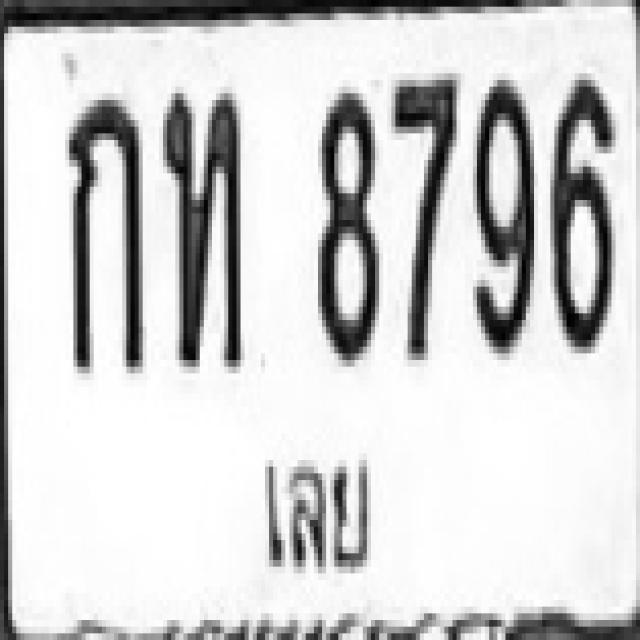10GorGai: (65, 93, 143, 367)
32ThorThaHan: (159, 87, 240, 360)
6: (548, 73, 614, 347)
7: (387, 70, 457, 357)
8: (314, 90, 375, 357)
9: (469, 70, 534, 350)
Loei: (254, 439, 384, 588)
